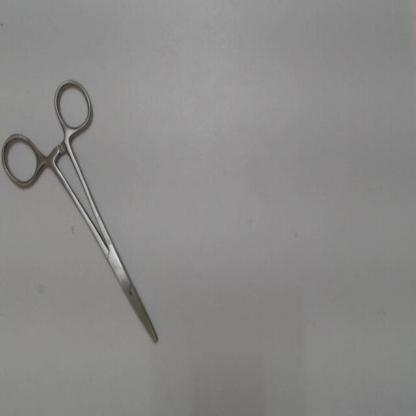Mayo Needle Holder: (1, 69, 170, 357)
